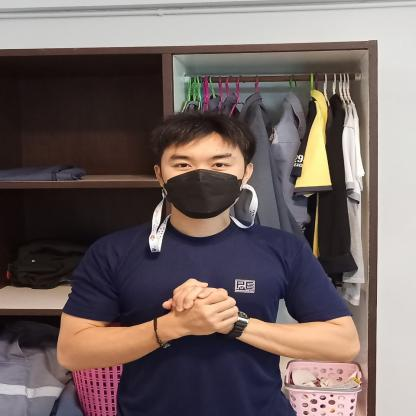Grieve: (135, 272, 277, 372)
